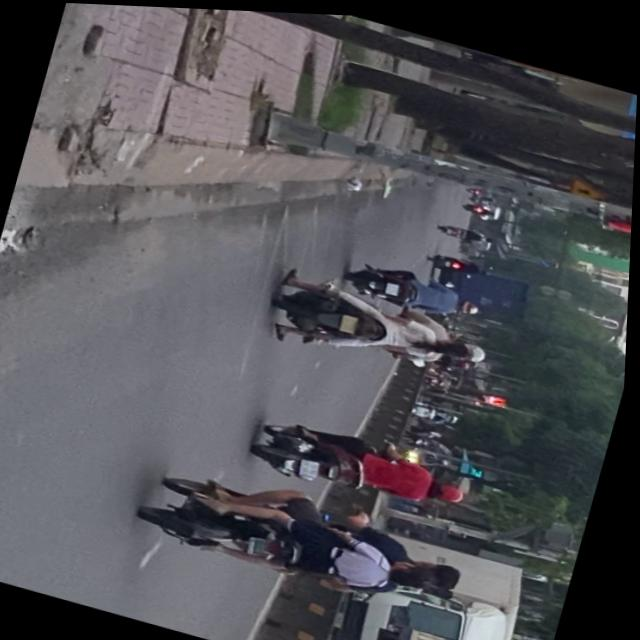helmet: (433, 474, 472, 503), (463, 337, 492, 361)
licenseplate: (132, 451, 480, 621), (262, 264, 502, 389), (250, 407, 481, 519)
motorcyclist: (412, 551, 471, 592), (392, 548, 443, 589), (433, 331, 475, 356)
nohelmet: (302, 454, 326, 476), (340, 309, 362, 330)
